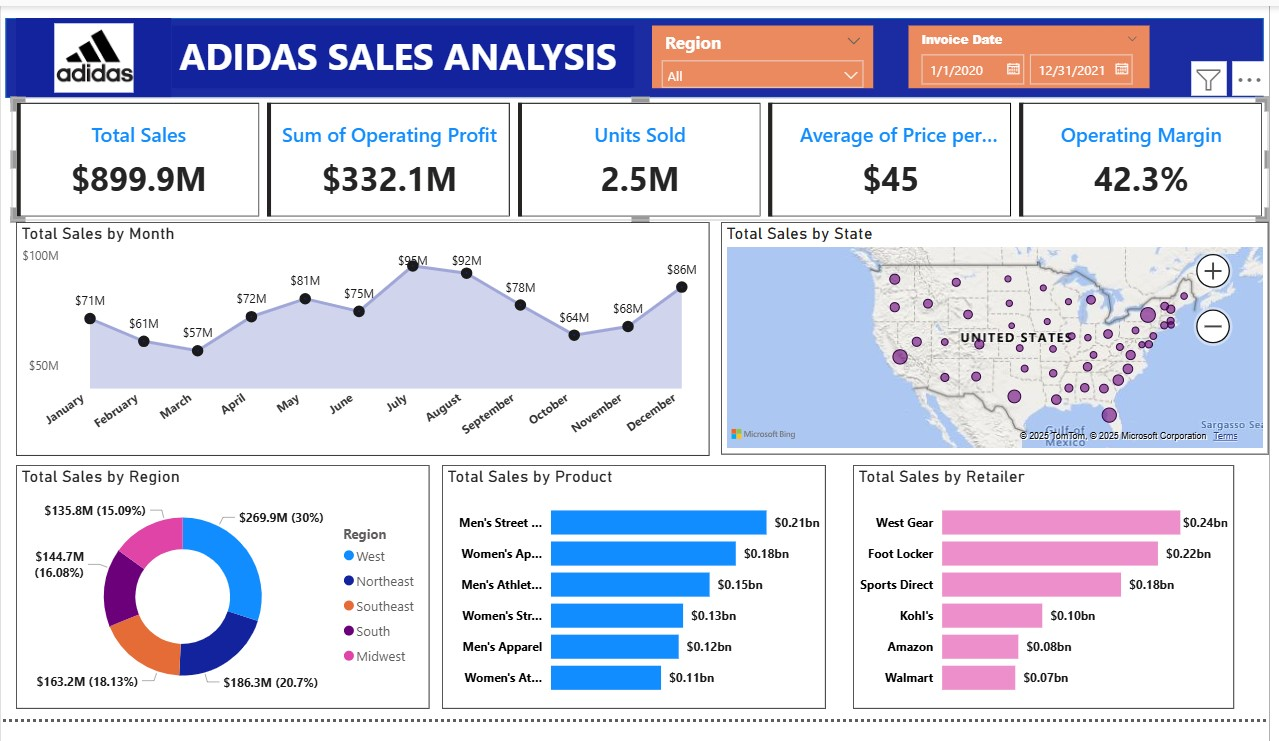

What the dashboard file says about the page in this screenshot:
{"tool":"powerbi","page":{"name":"Page 1","canvas":[1280,720],"ordinal":0},"visuals":[{"type":"shape","box":[4.3,11.5,1270.1,80.6],"z":0},{"type":"textbox","box":[172.8,20.2,466.6,63.4],"z":1000},{"type":"image","box":[15.8,11.5,157,80.6],"z":2000},{"type":"cardVisual","fields":{"Data":["Sum(Data Sales Adidas.Total Sales)","Sum(Data Sales Adidas.Operating Profit)","Sum(Data Sales Adidas.Units Sold)","Avg(Data Sales Adidas.Price per Unit)","Avg(Data Sales Adidas.Operating Margin)"]},"box":[10.1,92.2,1270.1,125],"z":3000},{"type":"areaChart","title":"Total Sales by Month","fields":{"Y":["Sum(Data Sales Adidas.Total Sales)"],"Category":["Data Sales Adidas.Invoice Date.Variation.Date Hierarchy.Month"]},"box":[15.8,217.4,699.8,236.2],"z":4000},{"type":"map","title":"Total Sales by State","fields":{"Category":["Data Sales Adidas.State"],"Size":["Sum(Data Sales Adidas.Total Sales)"]},"box":[727.2,217.4,553,234.7],"z":6000},{"type":"donutChart","fields":{"Category":["Data Sales Adidas.Region"],"Y":["Sum(Data Sales Adidas.Total Sales)"]},"box":[15.8,463.7,417.6,246.2],"z":7000},{"type":"barChart","fields":{"Category":["Data Sales Adidas.Product"],"Y":["Sum(Data Sales Adidas.Total Sales)"]},"box":[445,463.7,387.4,246.2],"z":8000},{"type":"barChart","fields":{"Y":["Sum(Data Sales Adidas.Total Sales)"],"Category":["Data Sales Adidas.Retailer"]},"box":[859.7,463.7,384.5,246.2],"z":9000},{"type":"slicer","fields":{"Values":["Data Sales Adidas.Region"]},"box":[656.6,20.2,223.2,63.4],"z":10000},{"type":"slicer","fields":{"Values":["Data Sales Adidas.Invoice Date"]},"box":[915.8,20.2,243.4,63.4],"z":11000}]}

Visuals, with their boxes on the page's 1280x720 design canvas (x1, y1, x2, y2). These are canvas units, not pixel positions in the 1279x741 screenshot, which may show the page scaled, cropped or inside an application window:
shape: {"x1": 4, "y1": 12, "x2": 1274, "y2": 92}
textbox: {"x1": 173, "y1": 20, "x2": 639, "y2": 84}
image: {"x1": 16, "y1": 12, "x2": 173, "y2": 92}
cardVisual - Sum(Data Sales Adidas.Total Sales) x Sum(Data Sales Adidas.Operating Profit): {"x1": 10, "y1": 92, "x2": 1280, "y2": 217}
"Total Sales by Month" areaChart: {"x1": 16, "y1": 217, "x2": 716, "y2": 454}
"Total Sales by State" map: {"x1": 727, "y1": 217, "x2": 1280, "y2": 452}
donutChart - Data Sales Adidas.Region x Sum(Data Sales Adidas.Total Sales): {"x1": 16, "y1": 464, "x2": 433, "y2": 710}
barChart - Data Sales Adidas.Product x Sum(Data Sales Adidas.Total Sales): {"x1": 445, "y1": 464, "x2": 832, "y2": 710}
barChart - Sum(Data Sales Adidas.Total Sales) x Data Sales Adidas.Retailer: {"x1": 860, "y1": 464, "x2": 1244, "y2": 710}
slicer - Data Sales Adidas.Region: {"x1": 657, "y1": 20, "x2": 880, "y2": 84}
slicer - Data Sales Adidas.Invoice Date: {"x1": 916, "y1": 20, "x2": 1159, "y2": 84}
